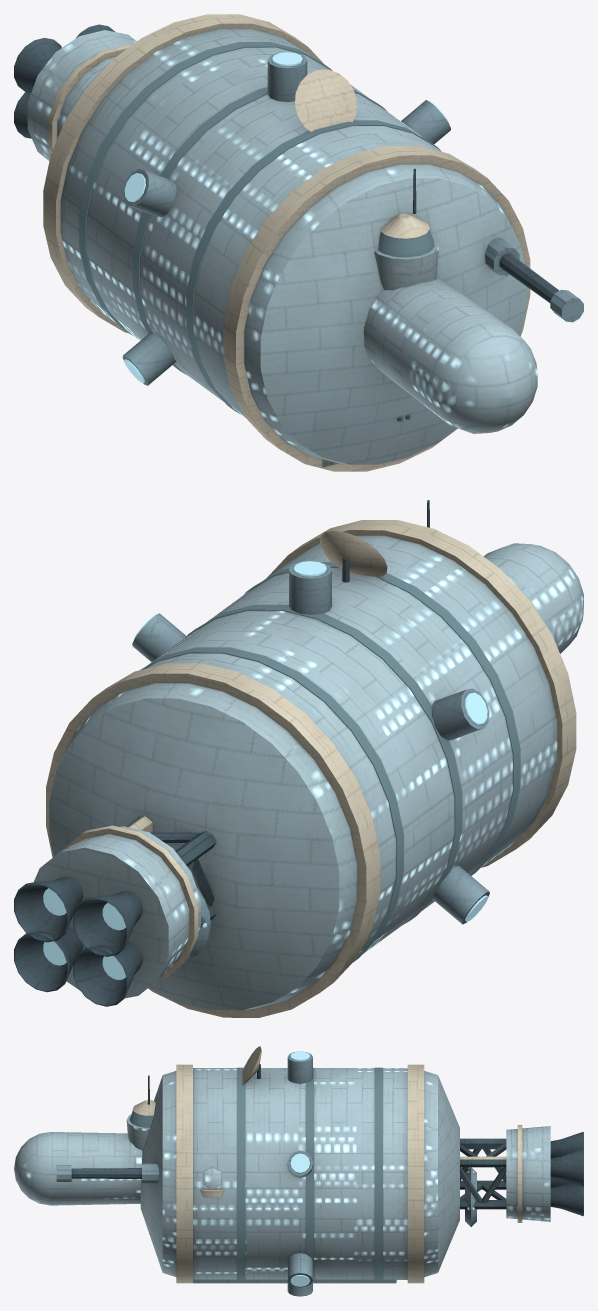
File: pell_carrier.glb
The picture shows the model from 3 angles, top to bottom: view 1: azimuth 30°, elevation 25°; view 2: azimuth 150°, elevation 25°; view 3: azimuth 270°, elevation 25°; orthographic projection. The views are drawn at different scales.
Parts seen in each view (by area): view 1: HULL, SYS_DRIVE, SYS_BRIDGE, SYS_SENSORS, SYS_WPN1; view 2: HULL, SYS_DRIVE, SYS_SENSORS; view 3: HULL, SYS_DRIVE, SYS_WPN1, SYS_BRIDGE, SYS_HANGAR, SYS_BUS_A, SYS_JUMP, SYS_SENSORS.
Part boxes in pixels (x1,y1,x2,y2): HULL: (43, 14, 537, 471); SYS_DRIVE: (14, 24, 136, 160); SYS_BRIDGE: (374, 168, 438, 290); SYS_SENSORS: (295, 69, 356, 132); SYS_WPN1: (485, 238, 583, 322); HULL: (46, 520, 583, 1017); SYS_DRIVE: (14, 825, 200, 1006); SYS_SENSORS: (320, 530, 387, 582); HULL: (14, 1051, 506, 1296); SYS_DRIVE: (506, 1125, 583, 1222); SYS_WPN1: (56, 1163, 224, 1197); SYS_BRIDGE: (126, 1075, 155, 1150); SYS_HANGAR: (193, 1279, 396, 1283); SYS_BUS_A: (460, 1139, 506, 1159); SYS_JUMP: (465, 1167, 476, 1226); SYS_SENSORS: (242, 1046, 261, 1084).
Size of the model in its own units: 24.28 by 27.53 by 58.3.
Materials: 1 (1 with a texture image).
